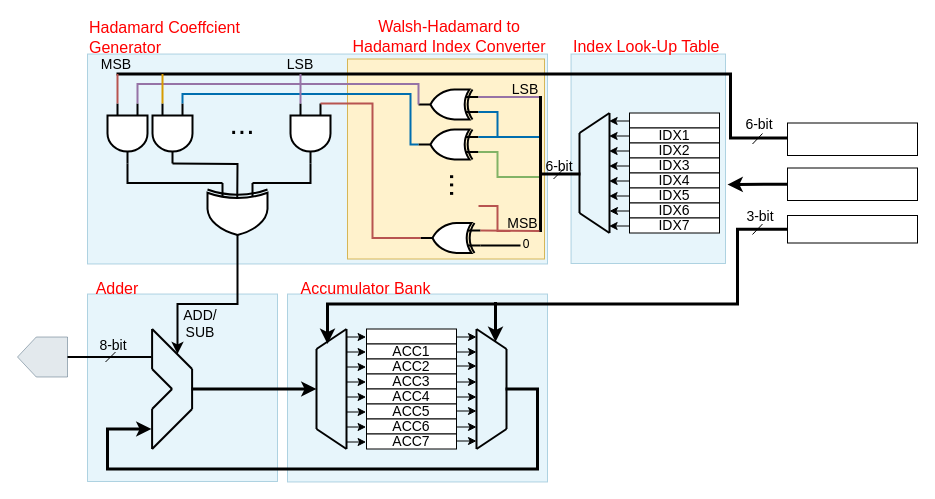
Image size: 935x499. Some labels were removed from this diagram. The box of each missing label's shape, as (x1, y1, x2, y2) in pixels:
ACC0: (366, 328, 456, 344)
ADC: (16, 336, 68, 377)
Column Counter: (786, 122, 918, 156)
IDX0: (628, 112, 720, 128)
Index Configuration: (786, 167, 918, 200)
Row Counter: (786, 214, 918, 243)
